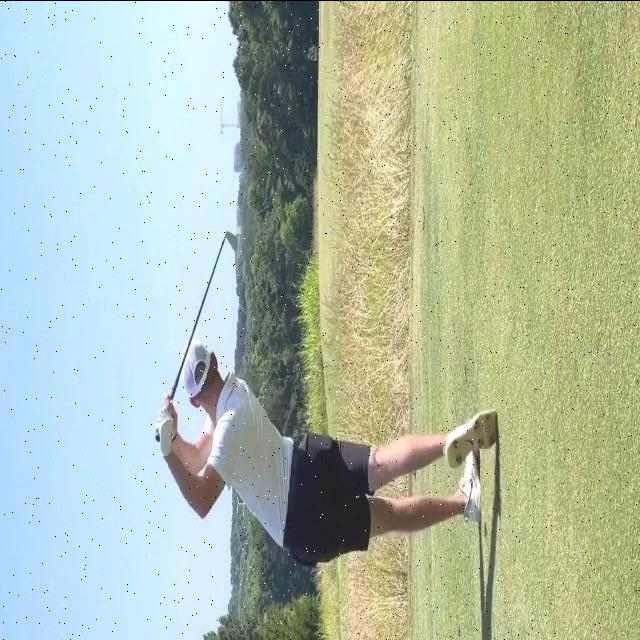ClubHandle: (156, 229, 238, 441)
ClubHead: (226, 230, 238, 250)
